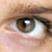eye: (17, 18, 35, 33)
